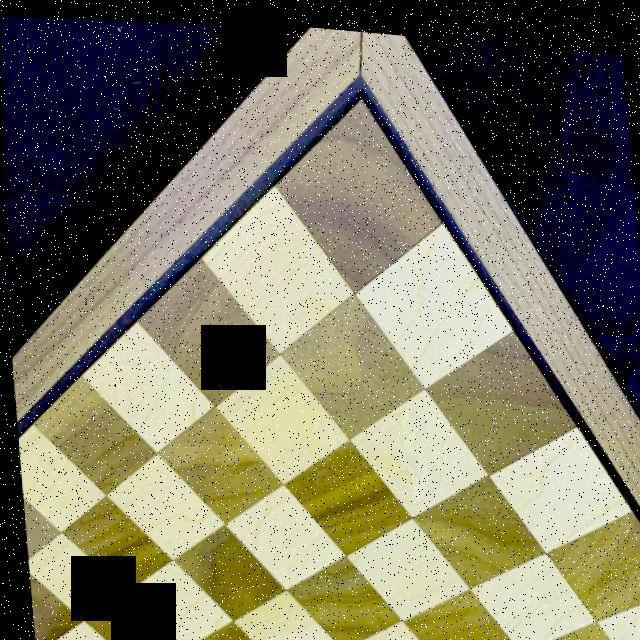chess-table-corners: (327, 78, 408, 140)
